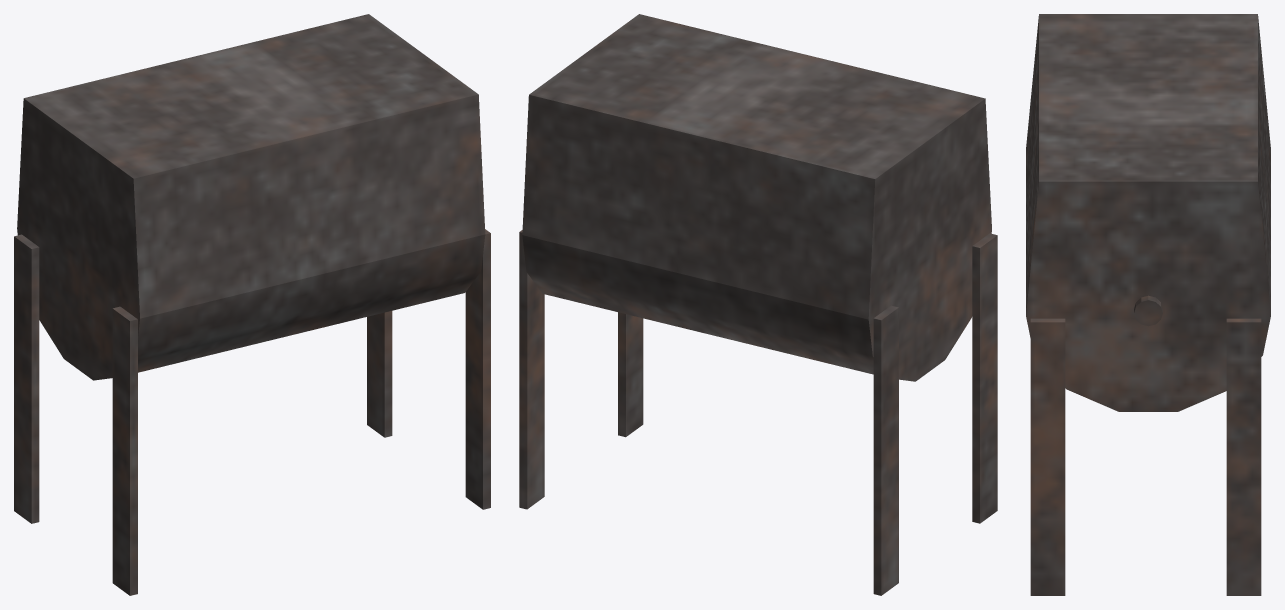
The model's file is miningWinches_A.glb.
The picture shows the model from 3 angles, left to right: view 1: azimuth 30°, elevation 25°; view 2: azimuth 150°, elevation 25°; view 3: azimuth 270°, elevation 25°; orthographic projection.
Parts seen in each view (by area): view 1: miningWinches_A; view 2: miningWinches_A; view 3: miningWinches_A.
Boxes of the visible parts, left/top/right/bottom form: miningWinches_A: left=14, top=14, right=490, bottom=595; miningWinches_A: left=519, top=14, right=997, bottom=595; miningWinches_A: left=1026, top=14, right=1270, bottom=595.
Bounding box in the file's own units: 0.3492 × 0.3799 × 0.2054.
1 material, 1 textured.
